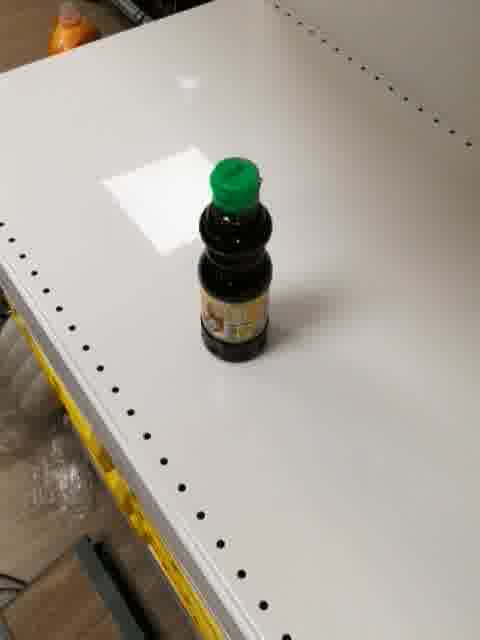cookingoil: (196, 155, 275, 364)
